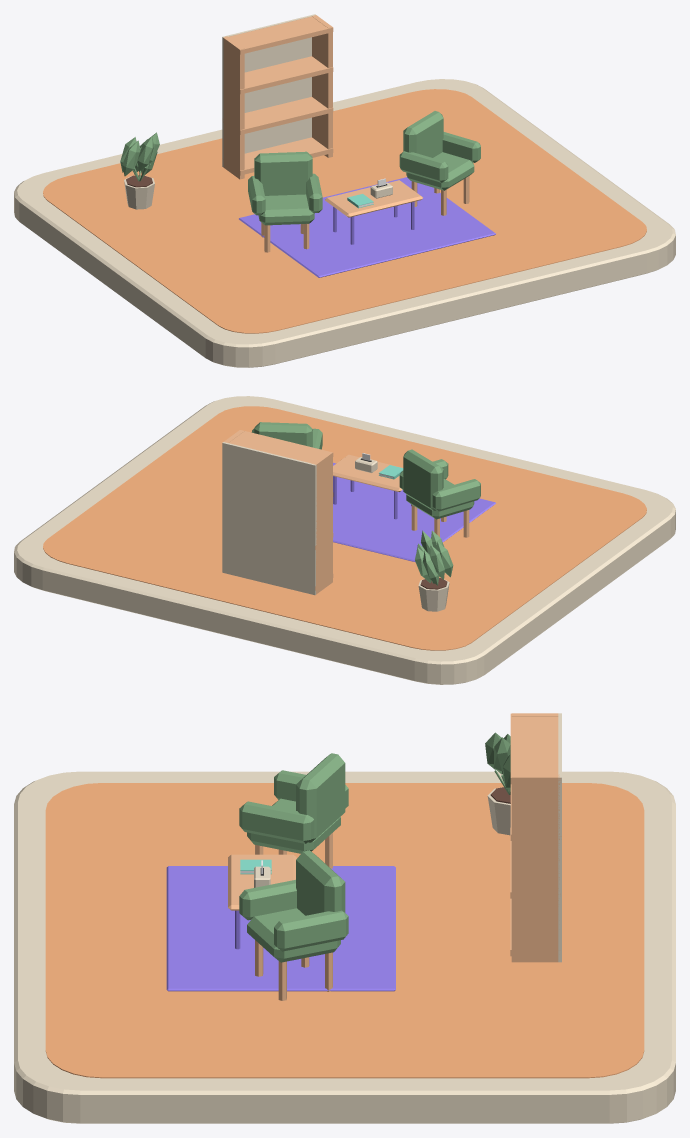
The model's file is room.fbx.
The picture shows the model from 3 angles, top to bottom: view 1: azimuth 30°, elevation 25°; view 2: azimuth 150°, elevation 25°; view 3: azimuth 270°, elevation 25°; orthographic projection. The views are drawn at different scales.
Parts seen in each view (by area): view 1: COM-02 Floor Surface, COM-01 Rounded Base Direct, Rug, Back.002, Side, Back, Pot, Side.001, Shelf.003, Shelf.001, Shelf.002, Rounded table top (+8 smaller); view 2: COM-02 Floor Surface, COM-01 Rounded Base Direct, Back.002, Rug, Pot, Side, Back, Shelf.003, Rounded table top, Arm, Back.001, Cushion; view 3: COM-02 Floor Surface, COM-01 Rounded Base Direct, Rug, Side.001, Shelf.003, Back, Back.001, Arm.001, Arm.003, Pot, Cushion.001, Rounded table top (+4 smaller).
Boxes of the visible parts, <box> form: COM-02 Floor Surface: <box>43,89,646,333</box>; COM-01 Rounded Base Direct: <box>14,79,675,367</box>; Rug: <box>239,177,495,277</box>; Back.002: <box>222,14,315,167</box>; Side: <box>223,36,244,179</box>; Back: <box>254,151,312,195</box>; Pot: <box>120,132,159,209</box>; Side.001: <box>312,15,332,157</box>; Shelf.003: <box>225,16,333,54</box>; Shelf.001: <box>222,97,333,134</box>; Shelf.002: <box>223,56,333,94</box>; Rounded table top: <box>325,180,422,217</box>; COM-02 Floor Surface: <box>43,406,646,650</box>; COM-01 Rounded Base Direct: <box>14,396,675,684</box>; Back.002: <box>222,442,316,595</box>; Rug: <box>333,462,495,562</box>; Pot: <box>415,530,453,611</box>; Side: <box>311,451,332,594</box>; Back: <box>403,449,443,510</box>; Shelf.003: <box>229,430,333,468</box>; Rounded table top: <box>333,454,402,491</box>; Arm: <box>432,479,480,511</box>; Back.001: <box>254,422,312,447</box>; Cushion: <box>406,479,474,519</box>; COM-02 Floor Surface: <box>45,783,644,1078</box>; COM-01 Rounded Base Direct: <box>14,771,675,1123</box>; Rug: <box>166,866,395,991</box>; Side.001: <box>511,774,559,962</box>; Shelf.003: <box>510,713,560,784</box>; Back: <box>296,753,345,842</box>; Back.001: <box>296,850,345,915</box>; Arm.001: <box>239,801,314,843</box>; Arm.003: <box>274,910,348,951</box>; Pot: <box>485,732,510,835</box>; Cushion.001: <box>247,908,340,962</box>; Rounded table top: <box>228,854,296,910</box>.
Bounding box in the file's own units: 600 × 190 × 520.
